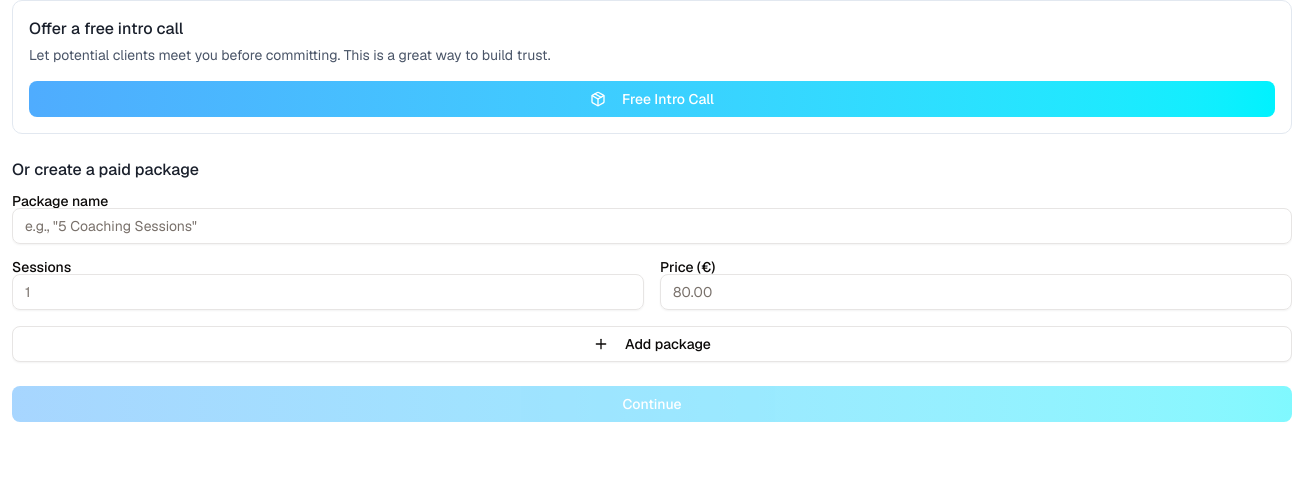
PackageStep › shows error on failed package creation
Click the button "Free Intro Call": coordinates (652, 99) [29,81,1275,117]
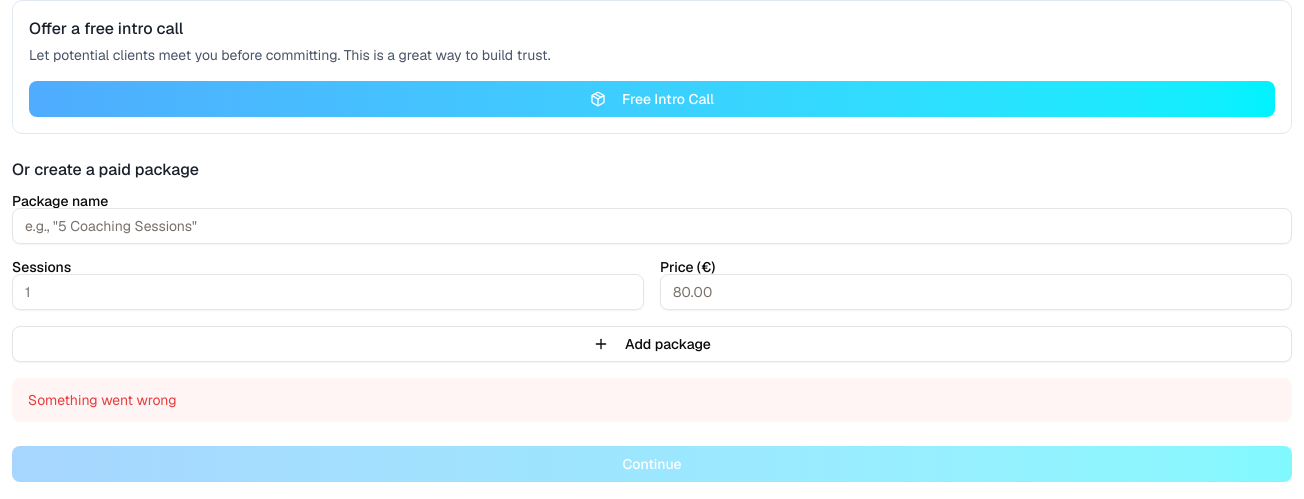
Check: the text "Something went wrong" is shown, box [12,378,1292,422]
